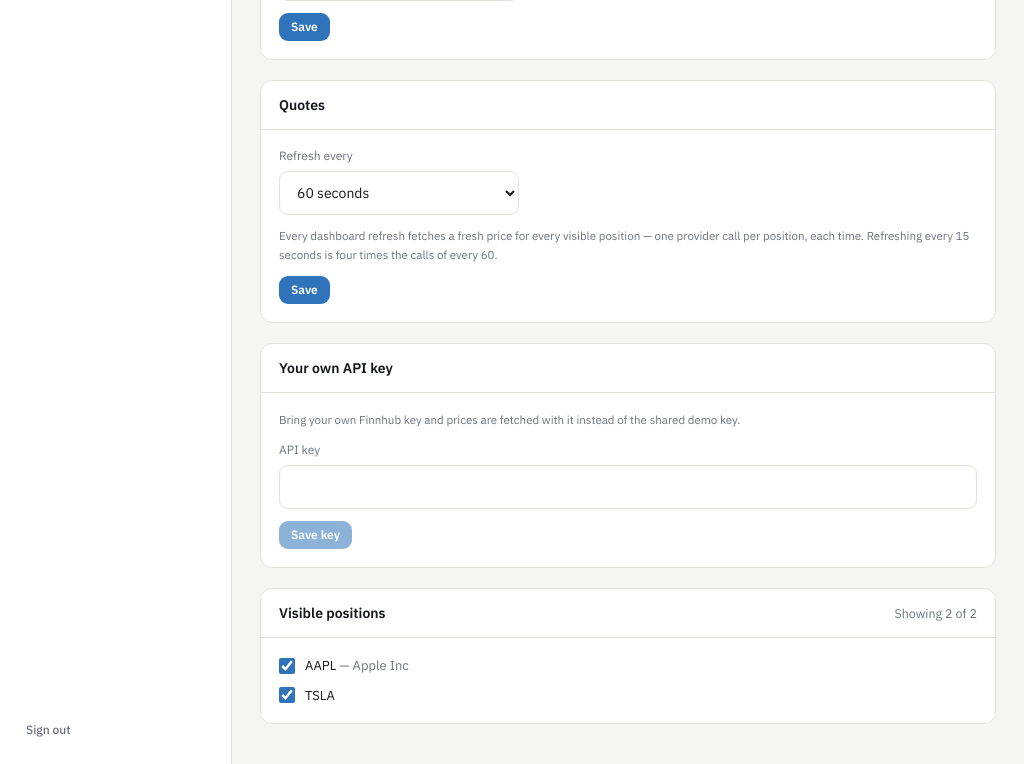
Test: settings › hidingAPosition_UpdatesTheCounterAndTheDashboard
(page scrolled)
Check: the text "Showing 2 of 2" is shown, box left=894, top=604, right=977, bottom=622
Click the checkbox named "toggle aapl" at x=287, y=666, box left=279, top=658, right=295, bottom=674
(page scrolled)
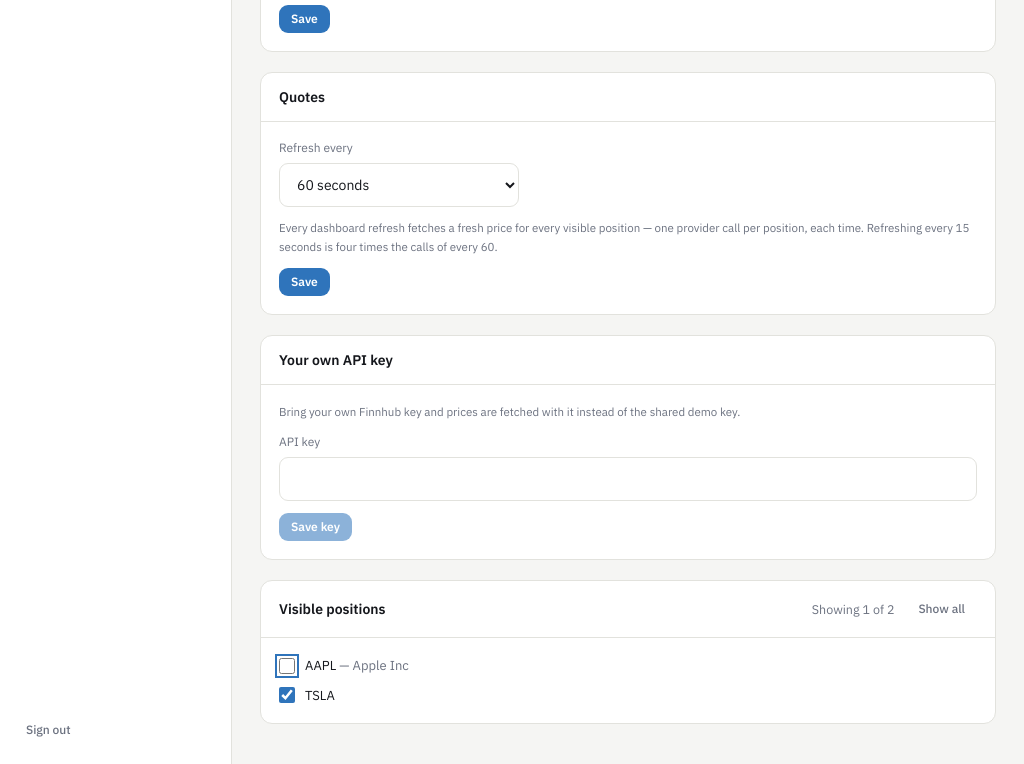
Check: the text "Showing 1 of 2" is shown, box left=812, top=600, right=894, bottom=618
